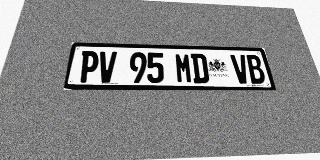5: (147, 52, 164, 83)
9: (129, 52, 147, 83)
B: (245, 55, 267, 84)
D: (190, 53, 210, 83)
M: (174, 53, 193, 83)
P: (78, 51, 100, 83)
V: (97, 51, 117, 83), (230, 54, 251, 84)
